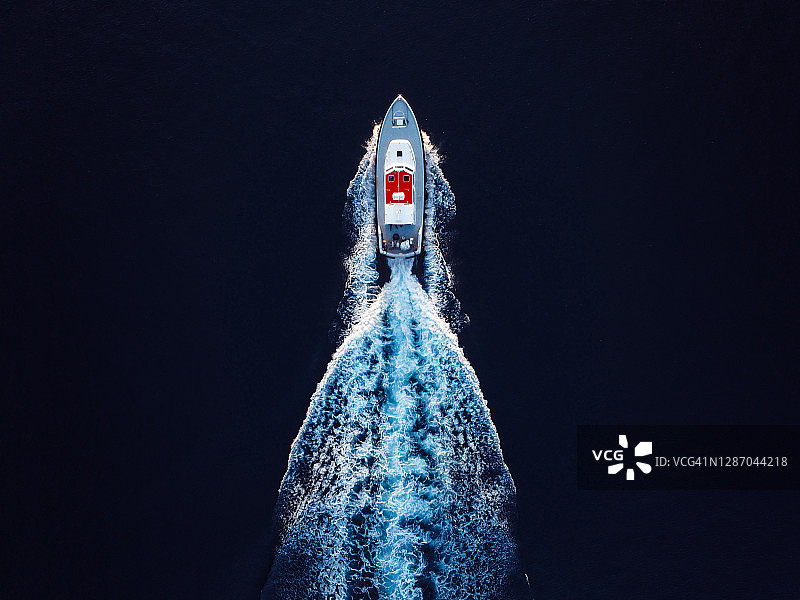ship: (354, 82, 454, 267)
